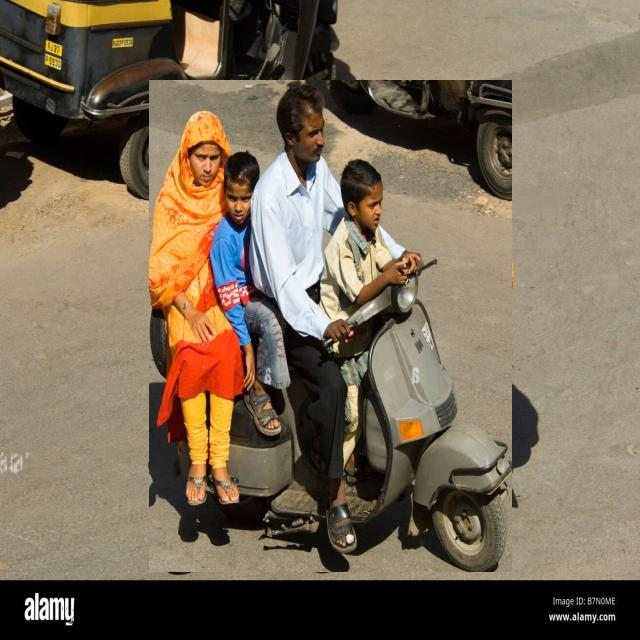motorcycle: (149, 80, 512, 572)
